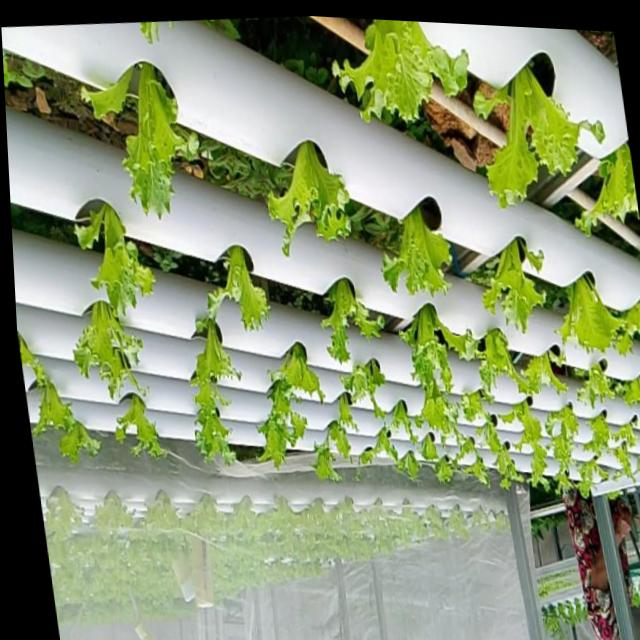Baby: (477, 69, 608, 211), (336, 20, 472, 124), (125, 62, 199, 219), (268, 141, 353, 256), (77, 202, 157, 316), (192, 310, 241, 464), (383, 197, 455, 295), (75, 301, 144, 399), (484, 237, 548, 333), (558, 275, 626, 357), (323, 278, 385, 363), (210, 245, 271, 330), (468, 328, 541, 398), (259, 380, 307, 468), (342, 358, 401, 418), (31, 363, 79, 436), (270, 342, 326, 401), (117, 393, 167, 457), (416, 379, 460, 442), (547, 404, 580, 488), (578, 459, 609, 497), (587, 414, 612, 457), (614, 442, 635, 480), (462, 391, 487, 422), (457, 433, 480, 464)
